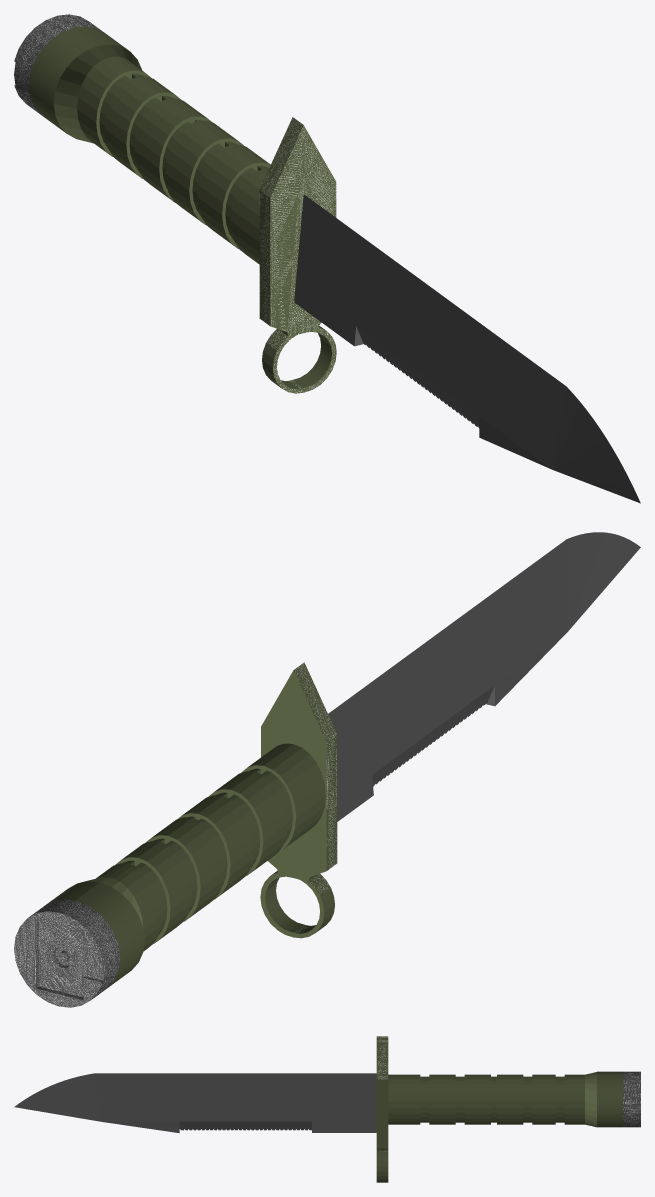
Rendered from model_scale.obj.
The picture shows the model from 3 angles, top to bottom: view 1: azimuth 30°, elevation 25°; view 2: azimuth 150°, elevation 25°; view 3: azimuth 270°, elevation 25°; orthographic projection. The views are drawn at different scales.
Visible parts, largest first — view 1: mesh1_mesh1-geometry, mesh11_mesh11-geometry, mesh34_mesh34-geometry, mesh33_mesh33-geometry; view 2: mesh1_mesh1-geometry, mesh11_mesh11-geometry, mesh34_mesh34-geometry, mesh33_mesh33-geometry; view 3: mesh1_mesh1-geometry, mesh11_mesh11-geometry, mesh34_mesh34-geometry, mesh33_mesh33-geometry.
Part boxes in pixels (left/top/right/bottom): mesh1_mesh1-geometry: left=294, top=194, right=640, bottom=503; mesh11_mesh11-geometry: left=29, top=26, right=270, bottom=264; mesh34_mesh34-geometry: left=259, top=117, right=336, bottom=393; mesh33_mesh33-geometry: left=14, top=14, right=104, bottom=115; mesh1_mesh1-geometry: left=328, top=532, right=640, bottom=821; mesh11_mesh11-geometry: left=45, top=743, right=325, bottom=987; mesh34_mesh34-geometry: left=260, top=662, right=337, bottom=938; mesh33_mesh33-geometry: left=14, top=899, right=120, bottom=1007; mesh1_mesh1-geometry: left=14, top=1073, right=376, bottom=1133; mesh11_mesh11-geometry: left=388, top=1071, right=623, bottom=1127; mesh34_mesh34-geometry: left=376, top=1036, right=388, bottom=1182; mesh33_mesh33-geometry: left=623, top=1071, right=640, bottom=1127.
Size of the model in its own units: 0.0208 by 0.059 by 0.233.
